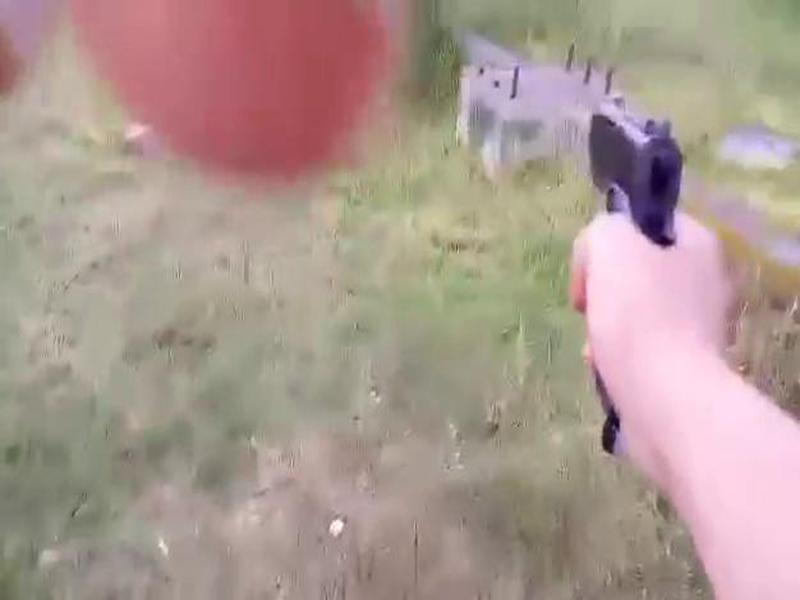Pistola: (567, 90, 699, 292)
